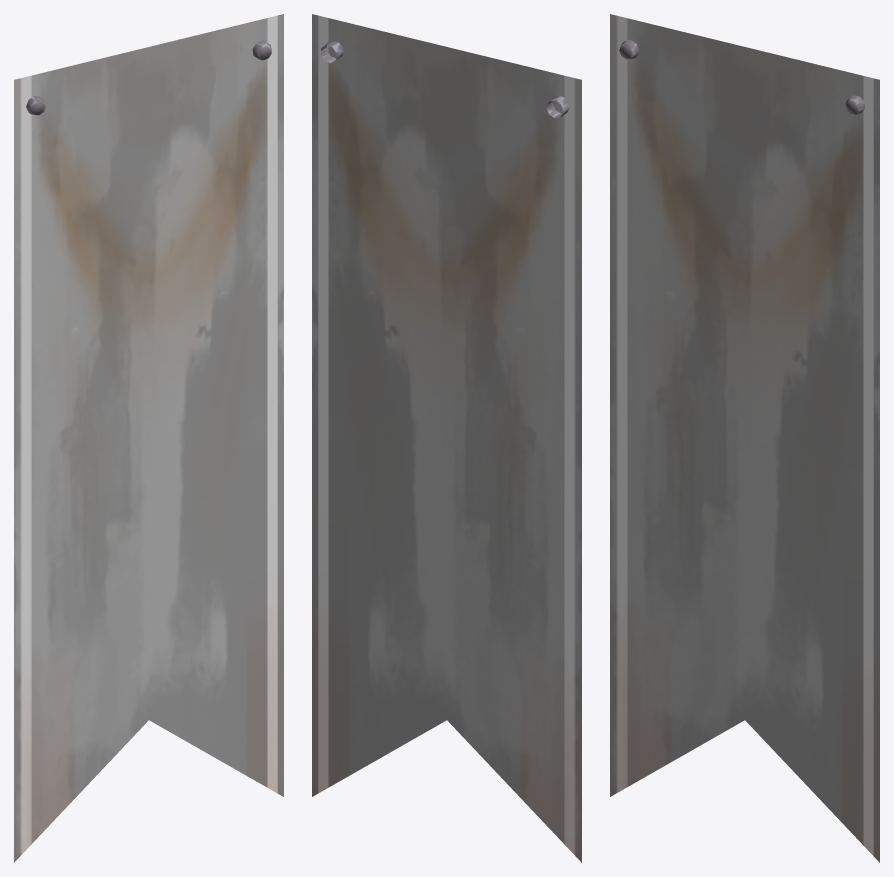
The model's file is Banner_1_Cloth.fbx.
3 renders of one model, left to right at view 1: azimuth 30°, elevation 25°; view 2: azimuth 150°, elevation 25°; view 3: azimuth 330°, elevation 25°, orthographic.
Visible parts, largest first — view 1: Banner_1_Cloth; view 2: Banner_1_Cloth; view 3: Banner_1_Cloth.
Part boxes in pixels (<box>): Banner_1_Cloth: <box>14,14,283,862</box>; Banner_1_Cloth: <box>312,14,581,862</box>; Banner_1_Cloth: <box>610,14,879,862</box>.
Size of the model in its own units: 81.02 by 225 by 5.68.
